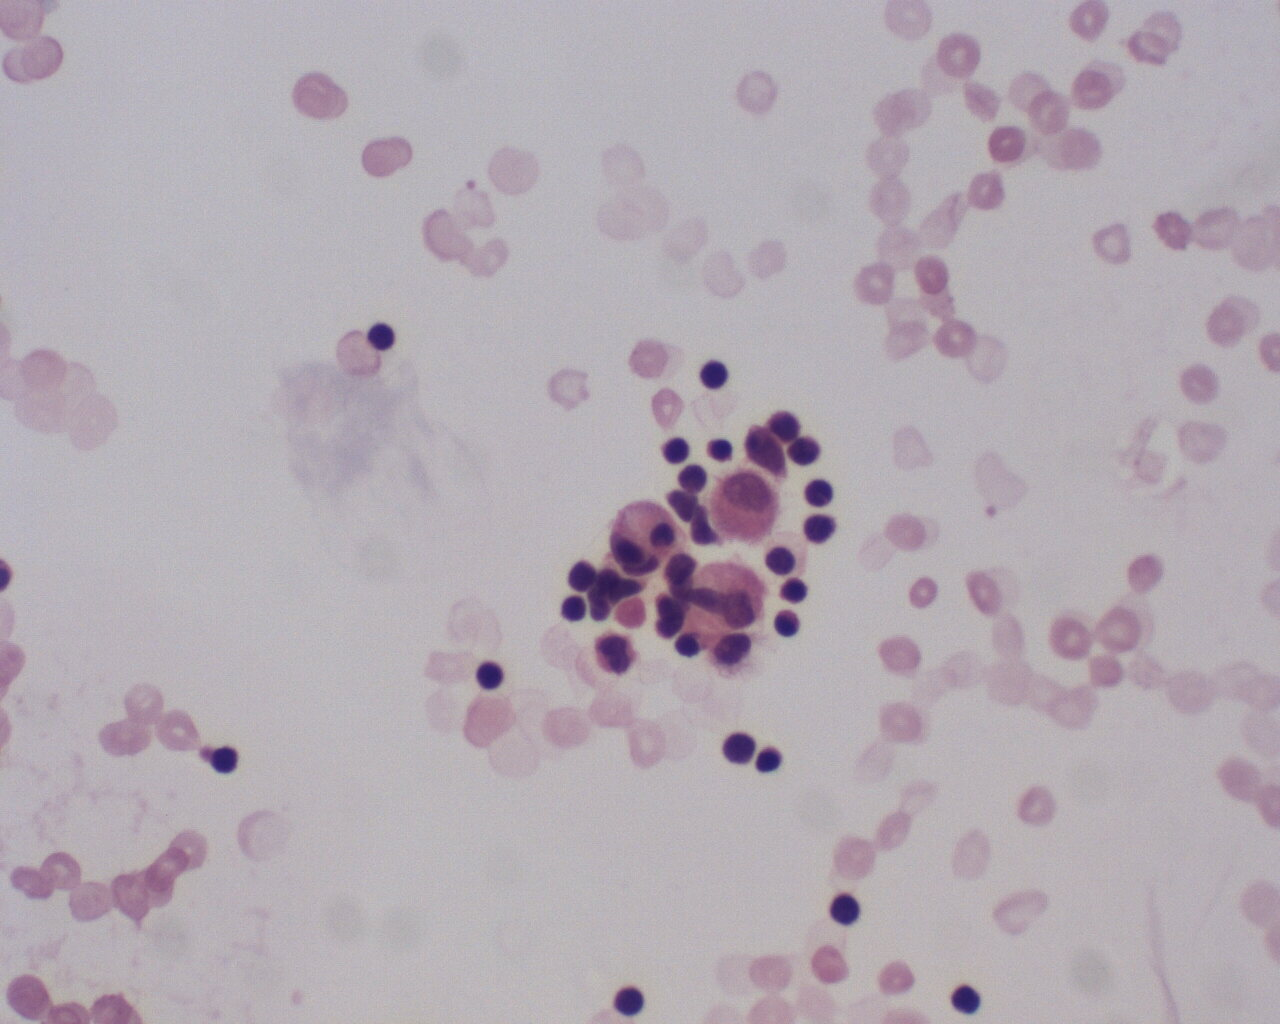lymph: (799, 508, 839, 551), (827, 889, 865, 930), (365, 320, 400, 359), (612, 979, 649, 1017), (800, 474, 840, 509), (208, 739, 241, 778), (475, 658, 509, 696), (694, 359, 730, 392), (776, 576, 815, 606)
meso: (709, 471, 781, 546)
